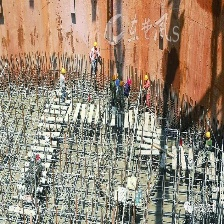helmet: (205, 130, 212, 142), (143, 74, 150, 81), (94, 39, 98, 48), (127, 78, 132, 84), (112, 75, 116, 82), (62, 68, 67, 73), (120, 83, 124, 87)
no-vest: (61, 76, 64, 85)
person: (90, 40, 103, 79), (58, 67, 70, 103), (143, 74, 152, 112), (117, 79, 125, 116), (124, 78, 131, 109), (204, 130, 212, 153), (111, 74, 116, 108)
